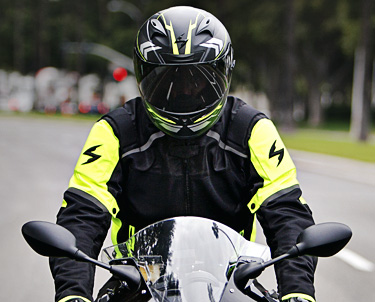with_helmet: (130, 5, 241, 142)
